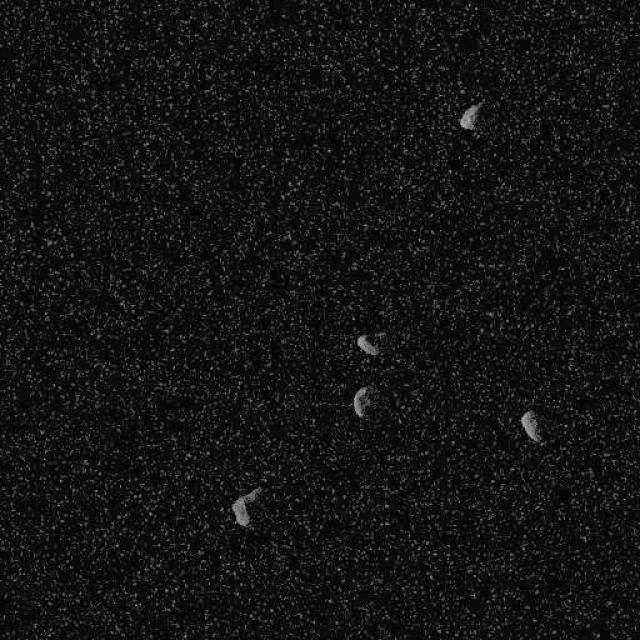D2: (230, 485, 262, 529), (518, 408, 544, 444), (458, 101, 482, 130), (352, 385, 372, 419), (355, 334, 379, 356)
